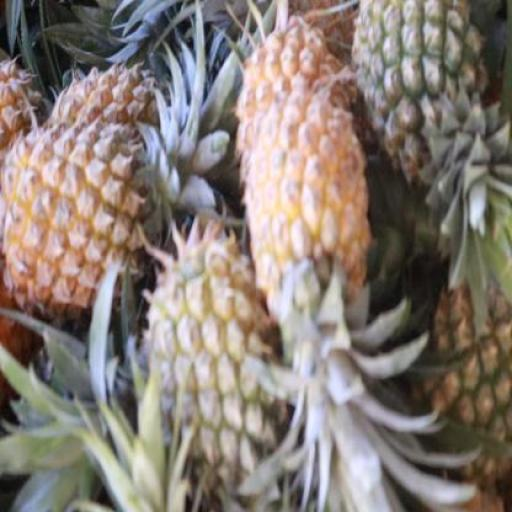------------------------------: (138, 234, 284, 484), (355, 0, 486, 181)
Pineapple - v8 v1: (254, 100, 366, 343), (4, 130, 138, 308)
